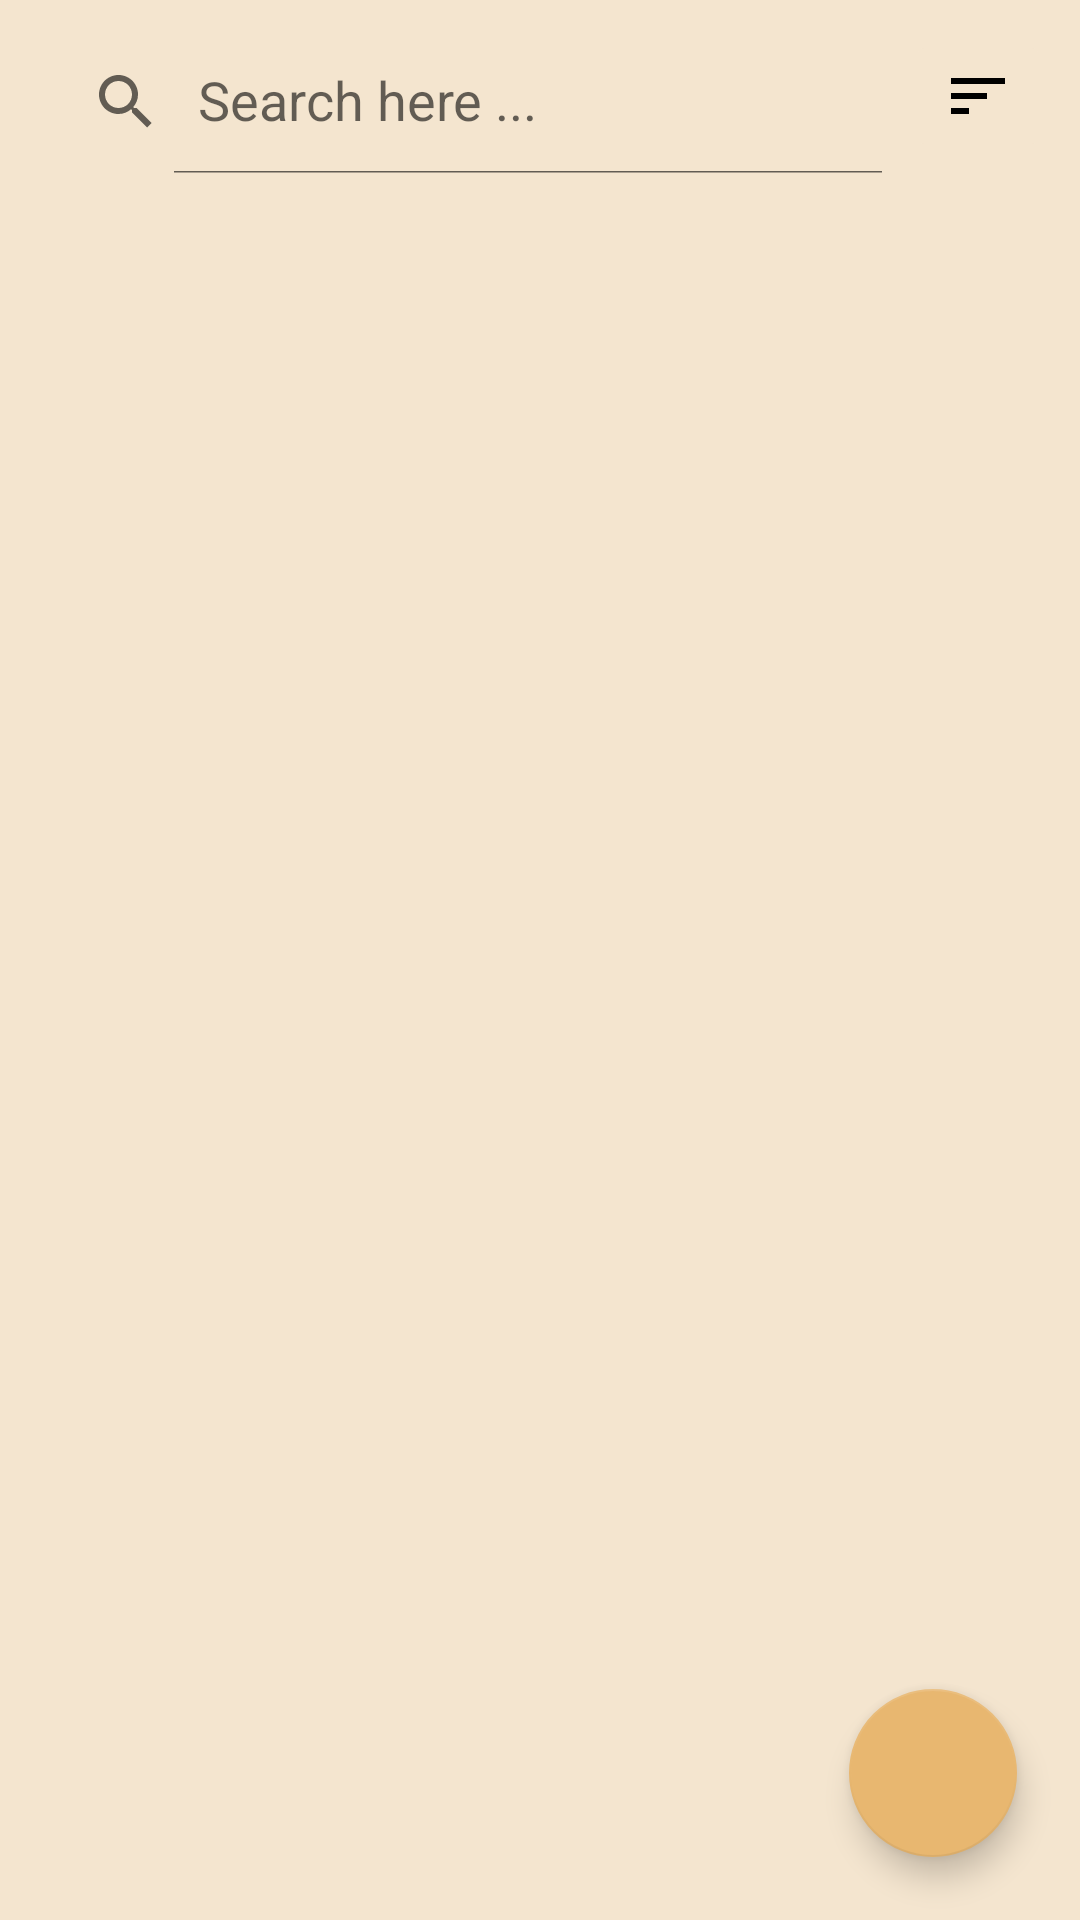

Screen size 1080px x 1920px. Icon name, then its box in pixels as [x1, y1, x2, y2]:
sort: [951, 78, 1005, 114]
